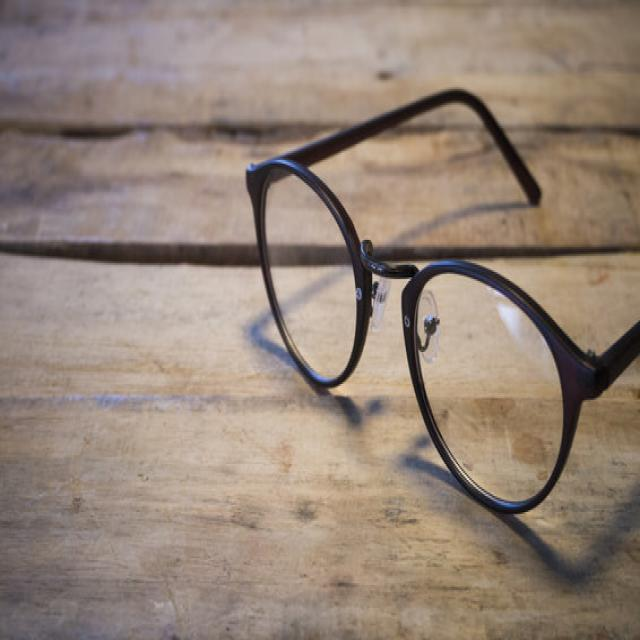glasses: (219, 32, 640, 533)
